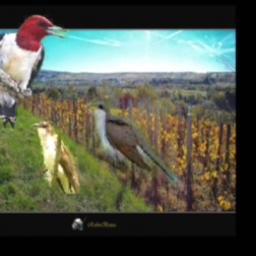Cuckoo: (87, 100, 182, 189), (33, 122, 80, 194)
Woodpecker: (0, 15, 71, 131)
